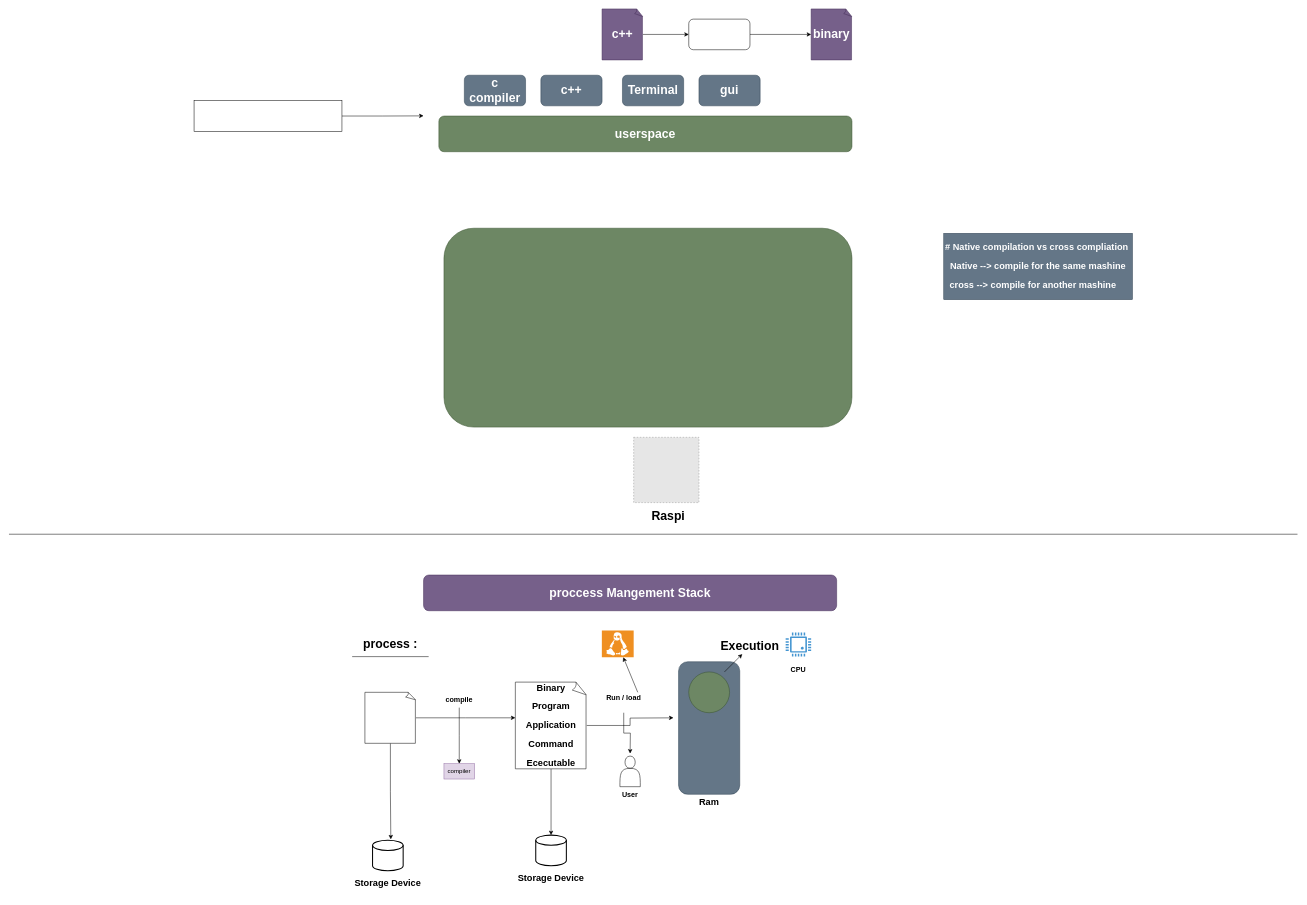
Some shapes in this 1307 by 905 pixel diagram are drawn without their labels. Grey dashed boxes stand in for pictures. The box of each missing label's shape, as (x1, y1, x2, y2) in pixels:
c++ compiler: (688, 19, 750, 50)
kernal space: (443, 228, 852, 427)
main.cpp: (364, 692, 416, 743)
Process: (688, 671, 730, 713)
root file system: (194, 100, 342, 131)
